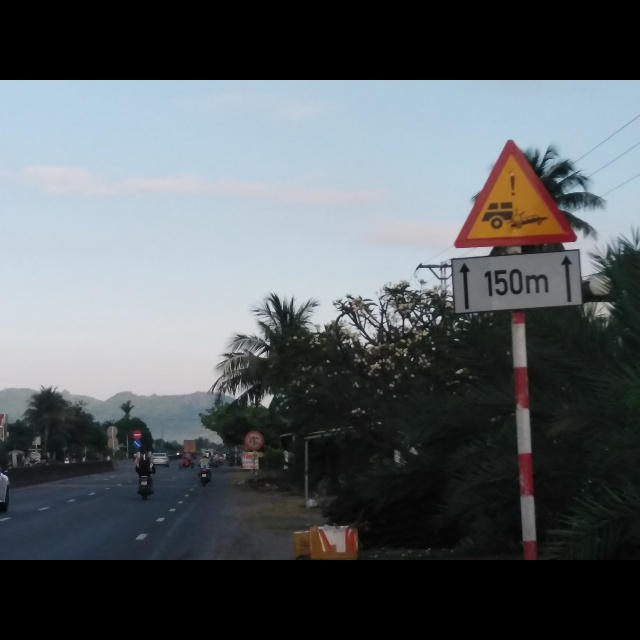Đoạn đường hay xảy ra tai nạn: (451, 136, 575, 248)
